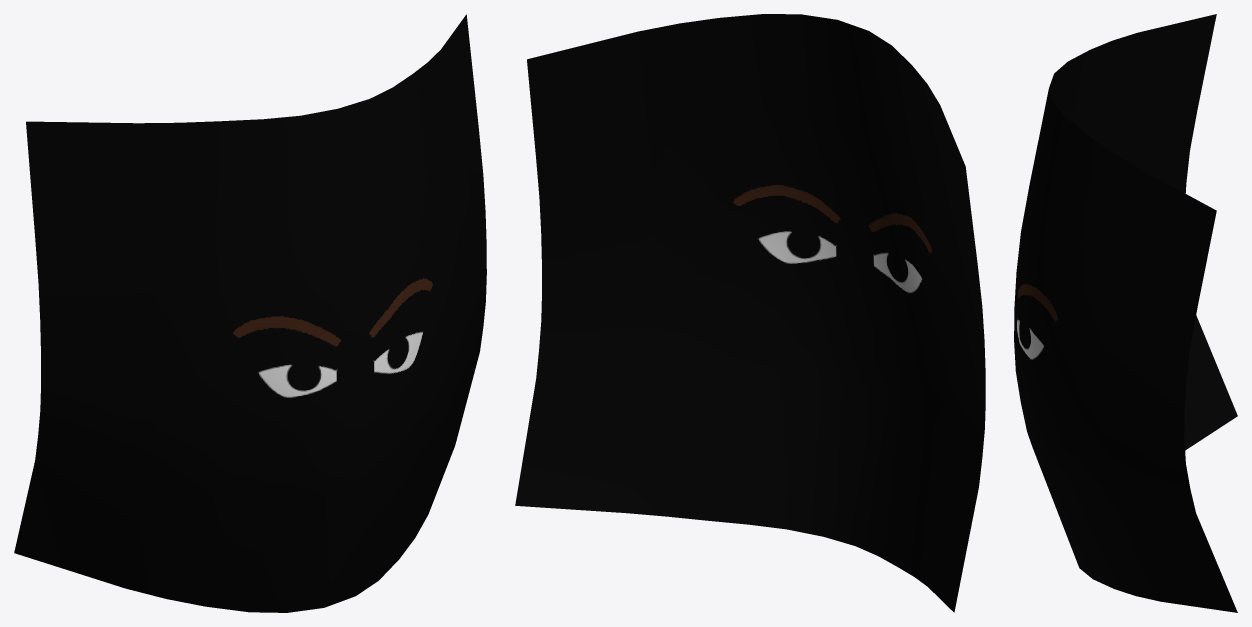
Rendered from Mask_1.glb.
3 renders of one model, left to right at view 1: azimuth 30°, elevation 25°; view 2: azimuth 150°, elevation 25°; view 3: azimuth 270°, elevation 25°, orthographic. The views are drawn at different scales.
Parts seen in each view (by area): view 1: Face01; view 2: Face01; view 3: Face01.
Part boxes in pixels (<box>): Face01: <box>14,14,486,612</box>; Face01: <box>515,14,985,612</box>; Face01: <box>1014,14,1237,612</box>.
Size of the model in its own units: 91.85 by 100 by 43.71.
Materials: 1 (1 with a texture image).
